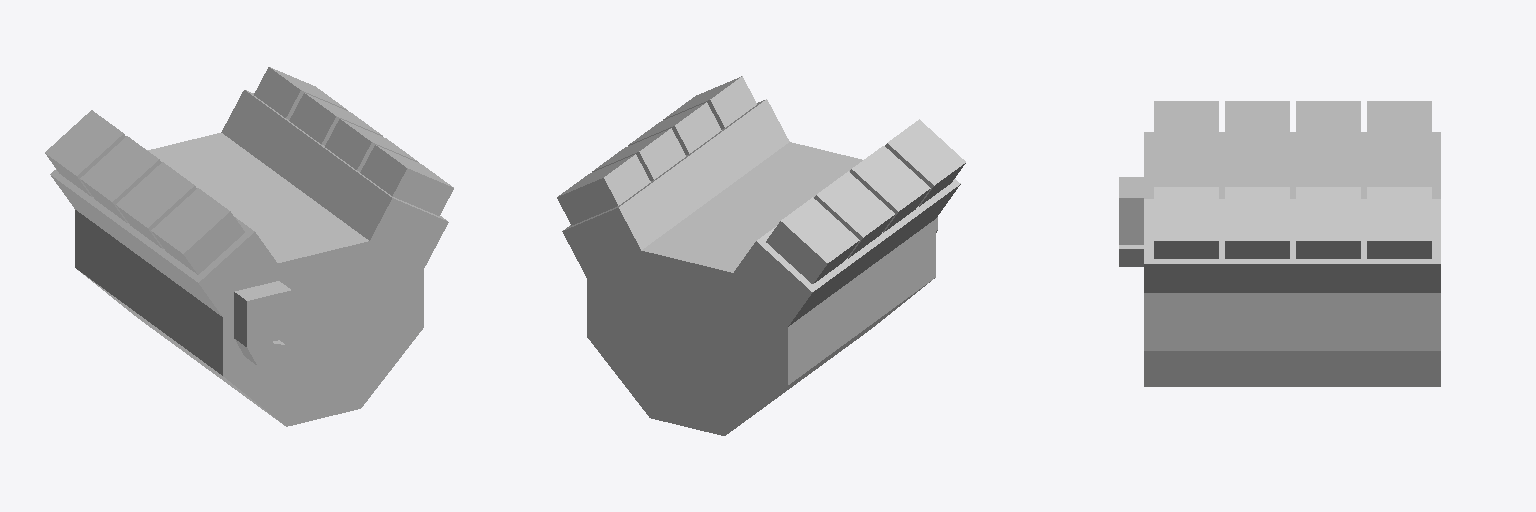
The model's file is v8performanteturbo.obj.
The picture shows the model from 3 angles: view 1: azimuth 30°, elevation 25°; view 2: azimuth 150°, elevation 25°; view 3: azimuth 270°, elevation 25°; orthographic projection.
Parts seen in each view (by area): view 1: cube, turbo; view 2: cube; view 3: cube, turbo.
Boxes of the visible parts, box(x1,y1,x2,y2) form: cube: box(45, 67, 453, 426); turbo: box(234, 281, 291, 368); cube: box(557, 76, 965, 435); cube: box(1144, 101, 1440, 386); turbo: box(1119, 177, 1143, 266).
Size of the model in its own units: 0.9373 by 0.7417 by 0.9657.